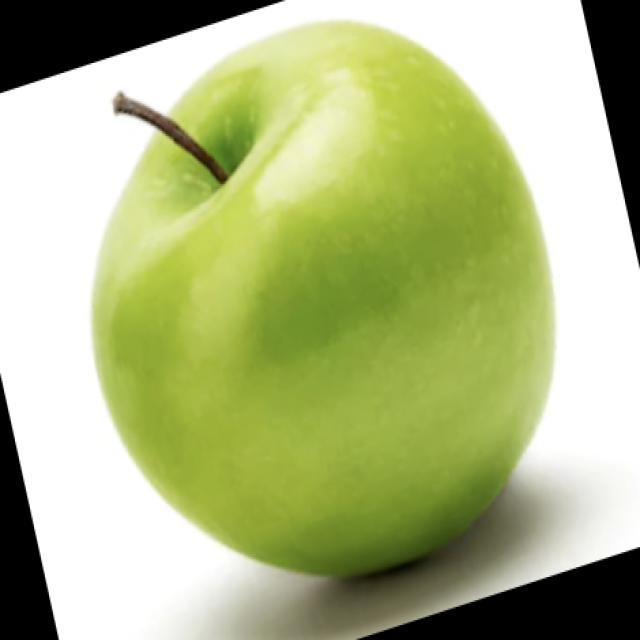organik: (84, 11, 570, 606)
